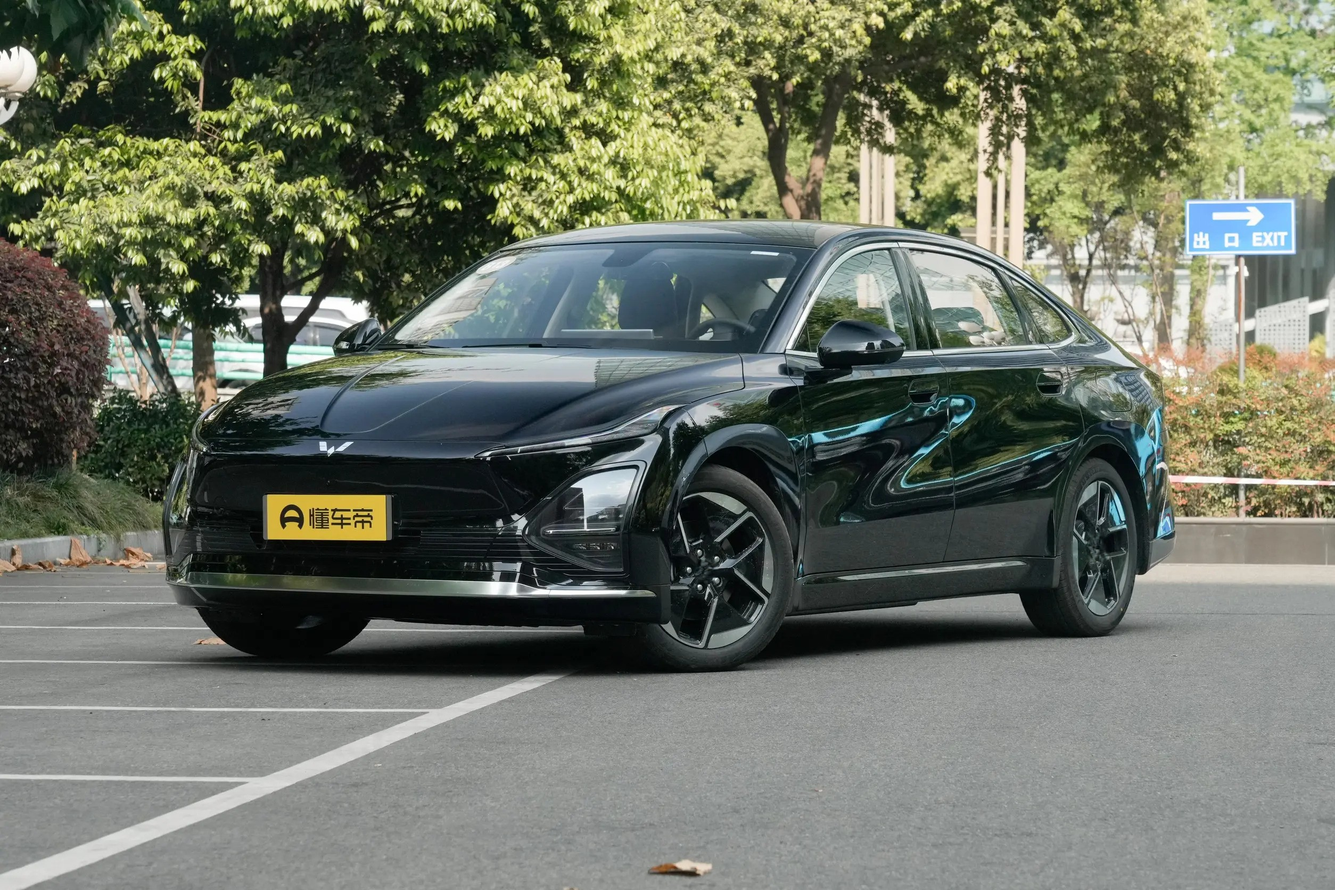SGMW: (320, 441, 353, 456)
